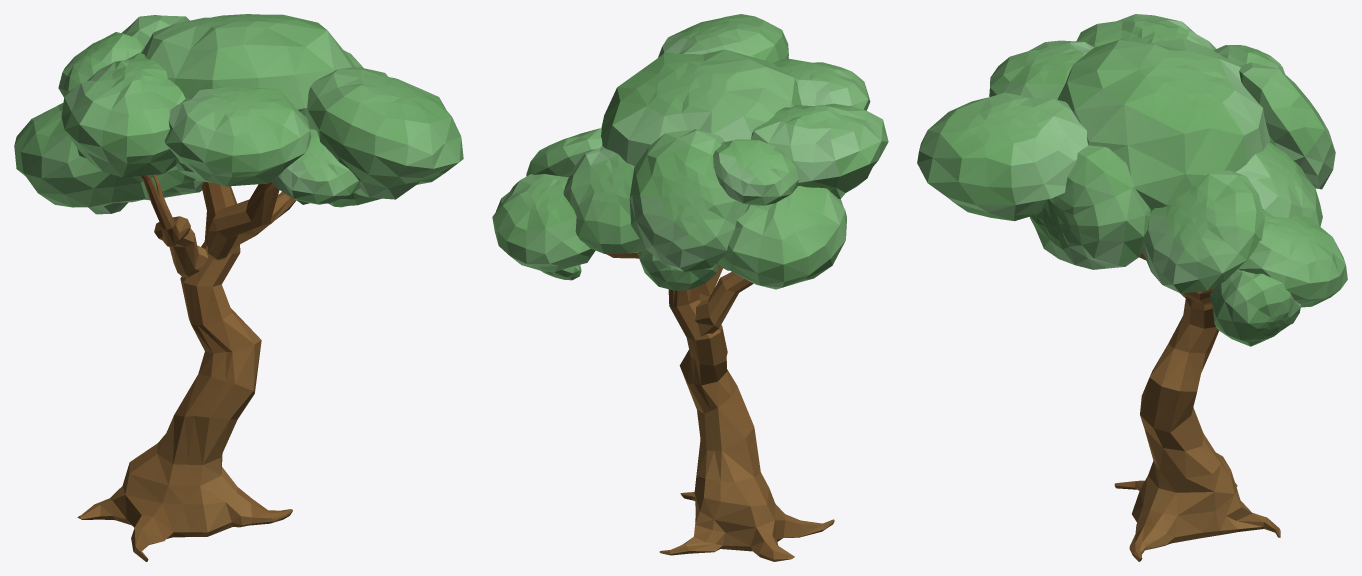
Rendered from tree1.glb.
3 renders of one model, left to right at view 1: azimuth 30°, elevation 25°; view 2: azimuth 150°, elevation 25°; view 3: azimuth 270°, elevation 25°, orthographic. The views are drawn at different scales.
Visible parts, largest first — view 1: crown_1_a; view 2: crown_1_a; view 3: crown_1_a.
Part boxes in pixels (x1=…): crown_1_a: x1=14, y1=14, x2=463, y2=561; crown_1_a: x1=492, y1=14, x2=888, y2=561; crown_1_a: x1=917, y1=14, x2=1347, y2=561.
Bounding box in the file's own units: 1.6 × 2.08 × 1.67.
1 material, 1 textured.
